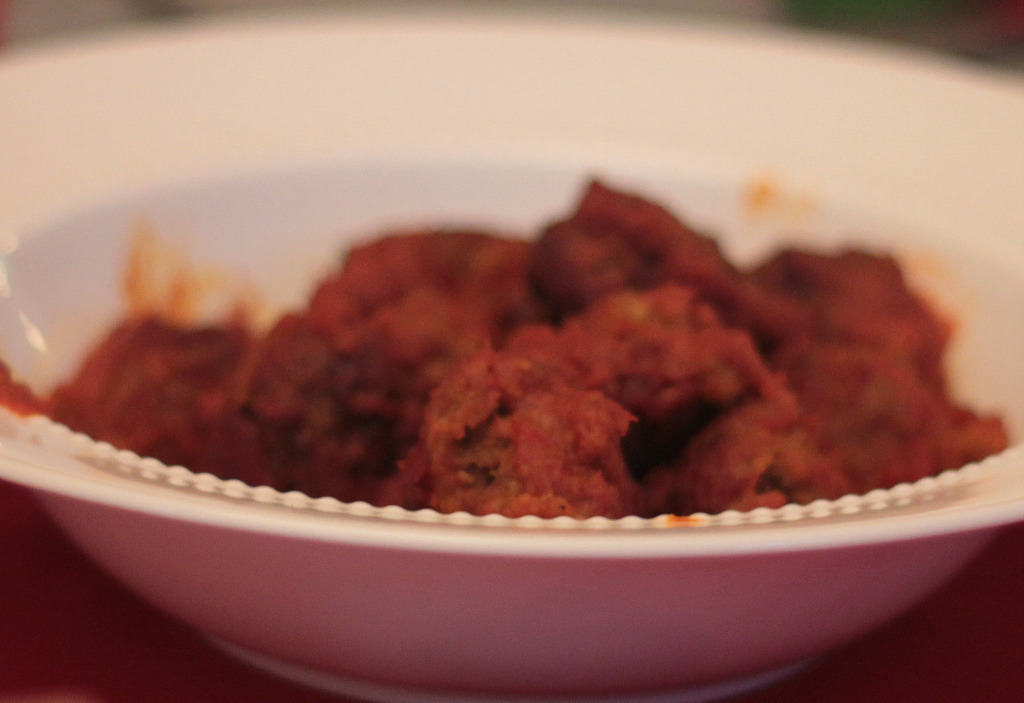meatballs: (78, 209, 953, 509)
